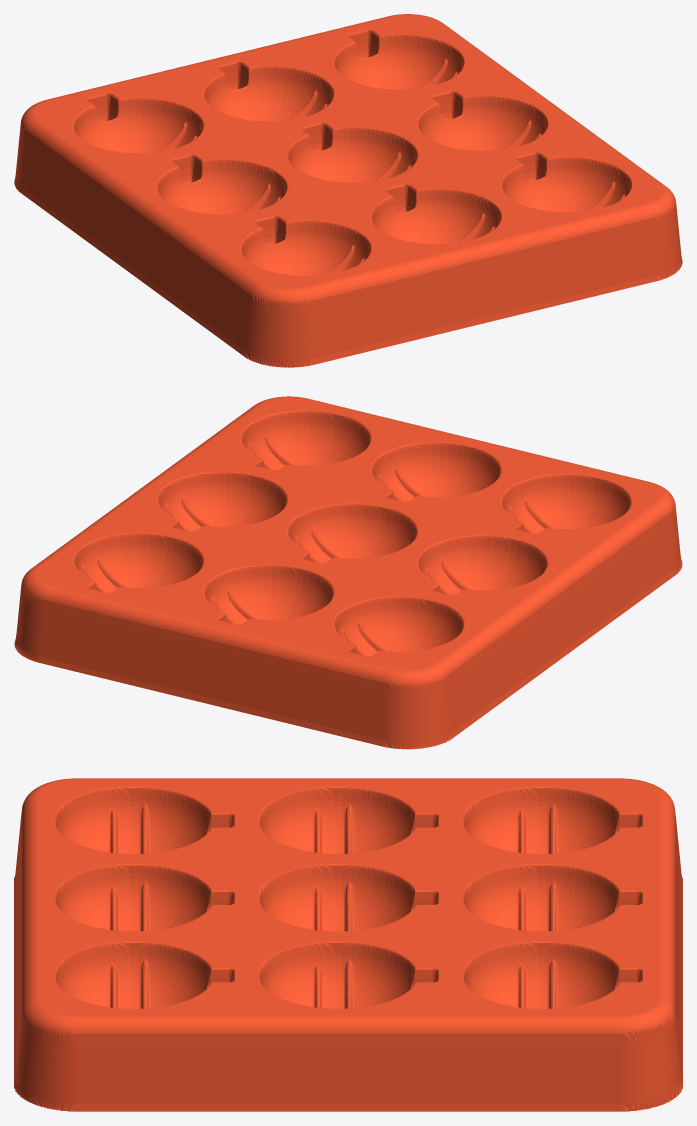
The model's file is mold.glb.
3 views of the same model, one above another, from view 1: azimuth 30°, elevation 25°; view 2: azimuth 150°, elevation 25°; view 3: azimuth 270°, elevation 25° (orthographic). The views are drawn at different scales.
Visible parts, largest first — view 1: geometry_0; view 2: geometry_0; view 3: geometry_0.
Part boxes in pixels (box(x1,y1,x2,y2)): geometry_0: box(14, 14, 682, 367); geometry_0: box(14, 396, 682, 749); geometry_0: box(14, 778, 682, 1111).
Size of the model in its own units: 0.0874 by 0.0136 by 0.0964.
